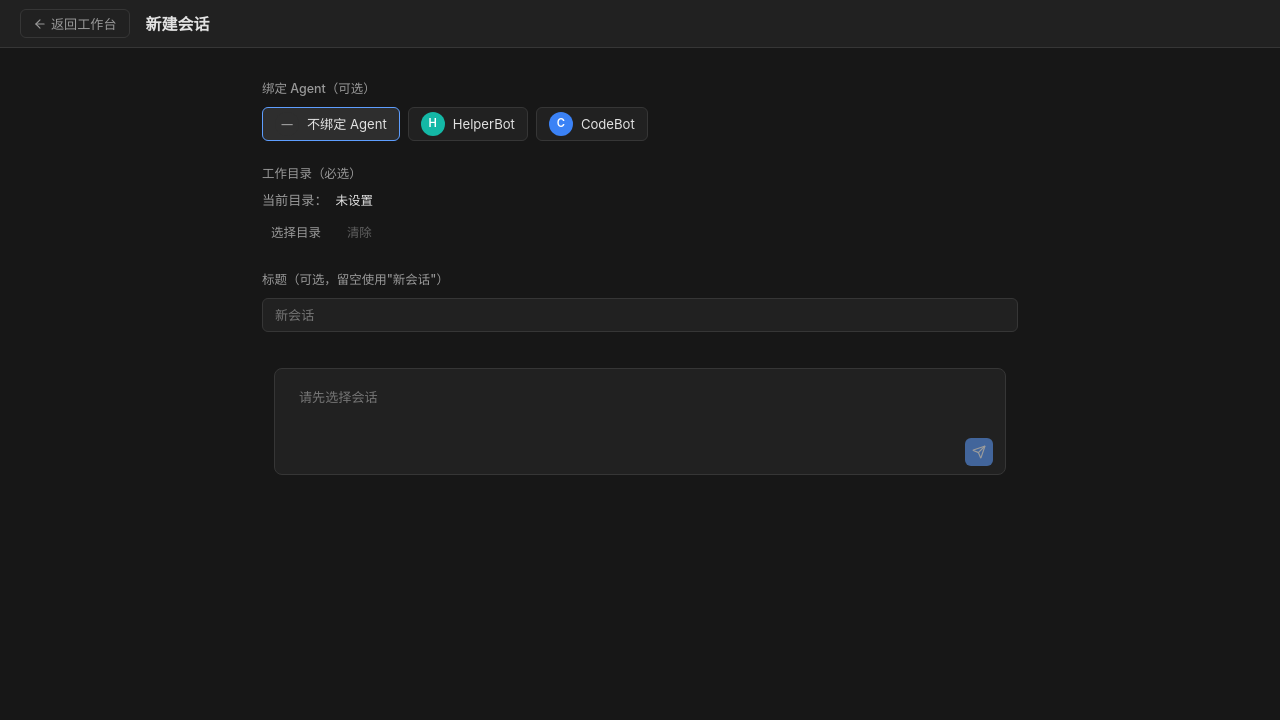
Scenario: NewSessionPage › 创建失败保留草稿：error 显示且 Agent/cwd 选择保留
The image size is (1280, 720).
Click the button with test id "new-session-agent-agent-1" at [468, 124], box [408,107,528,141]
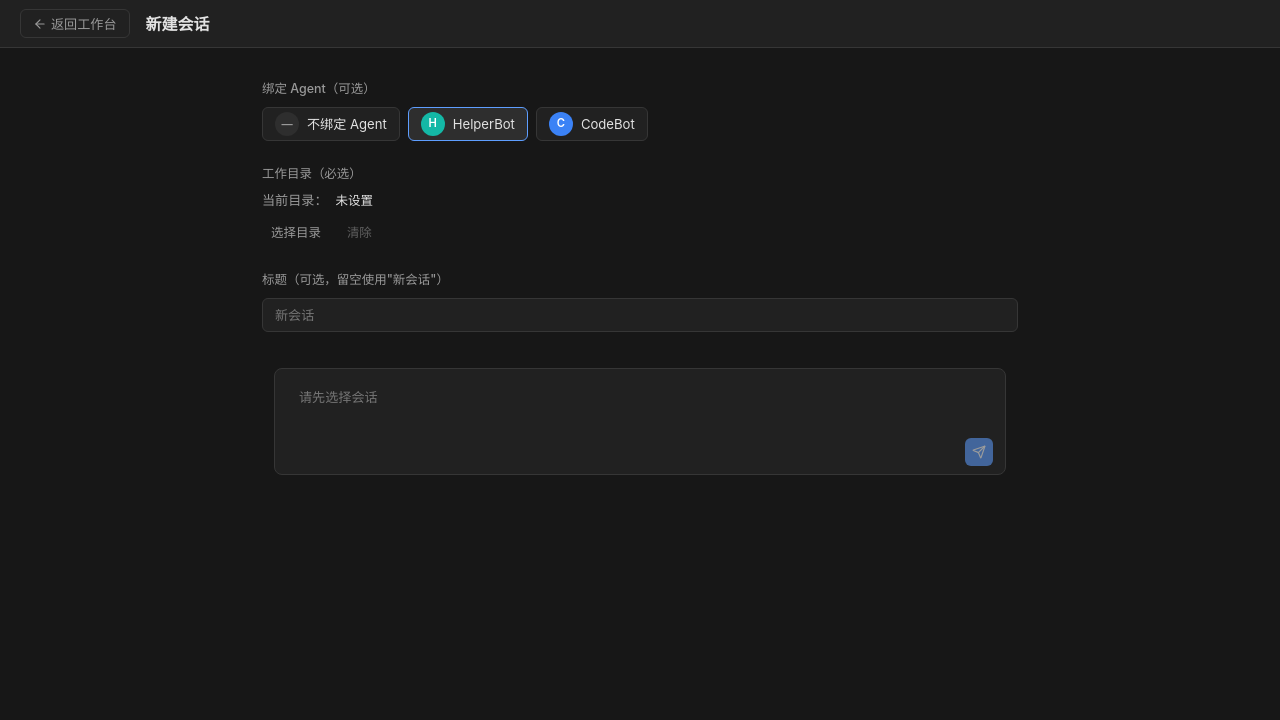
Click the button labelled "选择目录" at [296, 233], box [262,219,330,247]
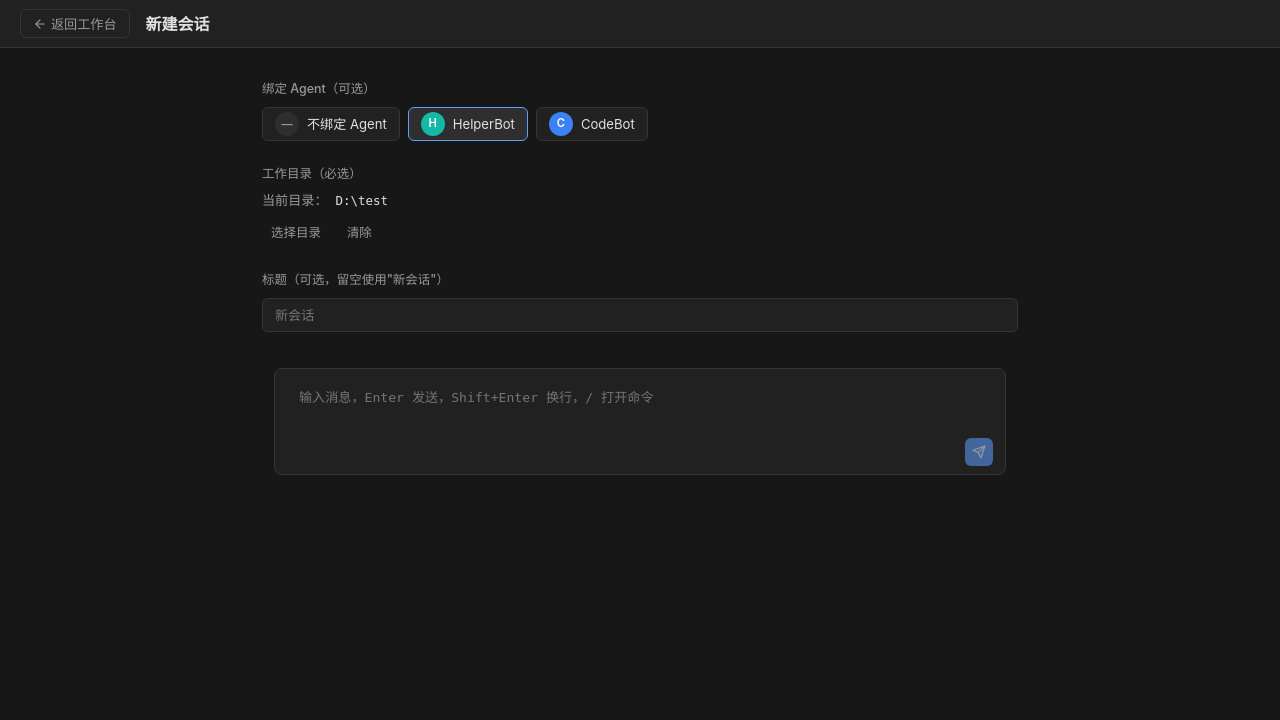
Expected: the text with test id "directory-picker-value" reads "D:\\test", [336,193,388,208]
Type "你好" into the text box named "消息输入" at [640, 402], box [287,379,993,425]
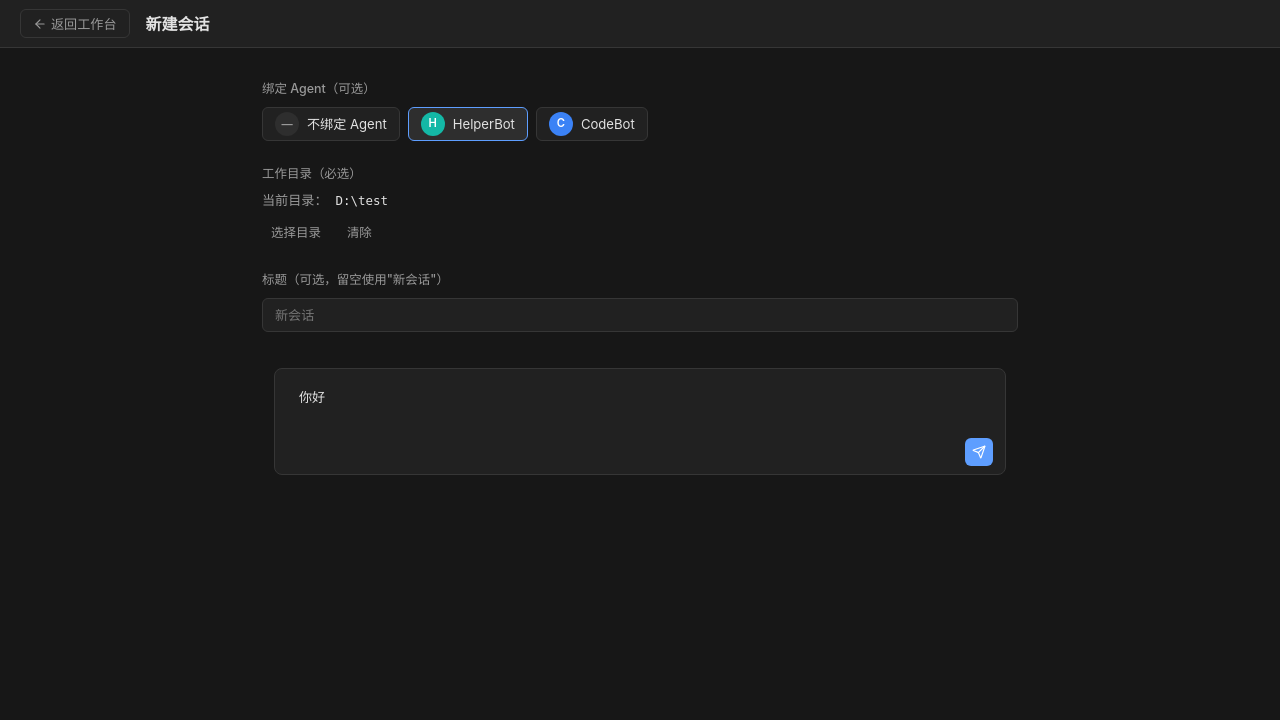
Click the button named "发送消息" at [979, 452], box [965,438,993,466]
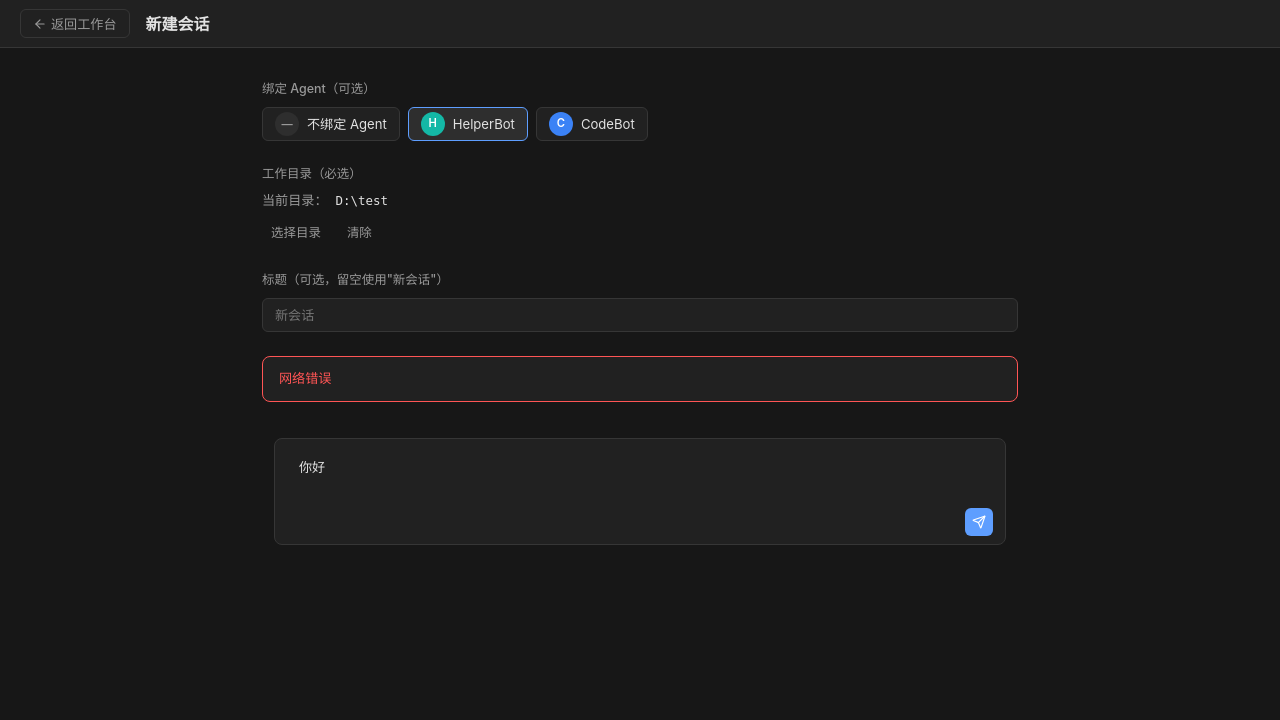
Expected: the text with test id "directory-picker-value" reads "D:\\test", [336,193,388,208]
Expected: the message with test id "new-session-error" reads "网络错误", [279,370,332,386]
